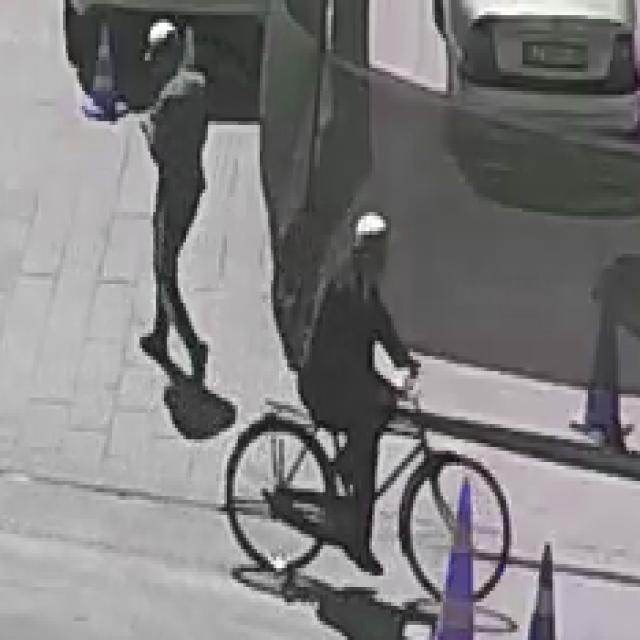Car: (431, 0, 640, 185)
Cycle: (221, 356, 512, 601)
